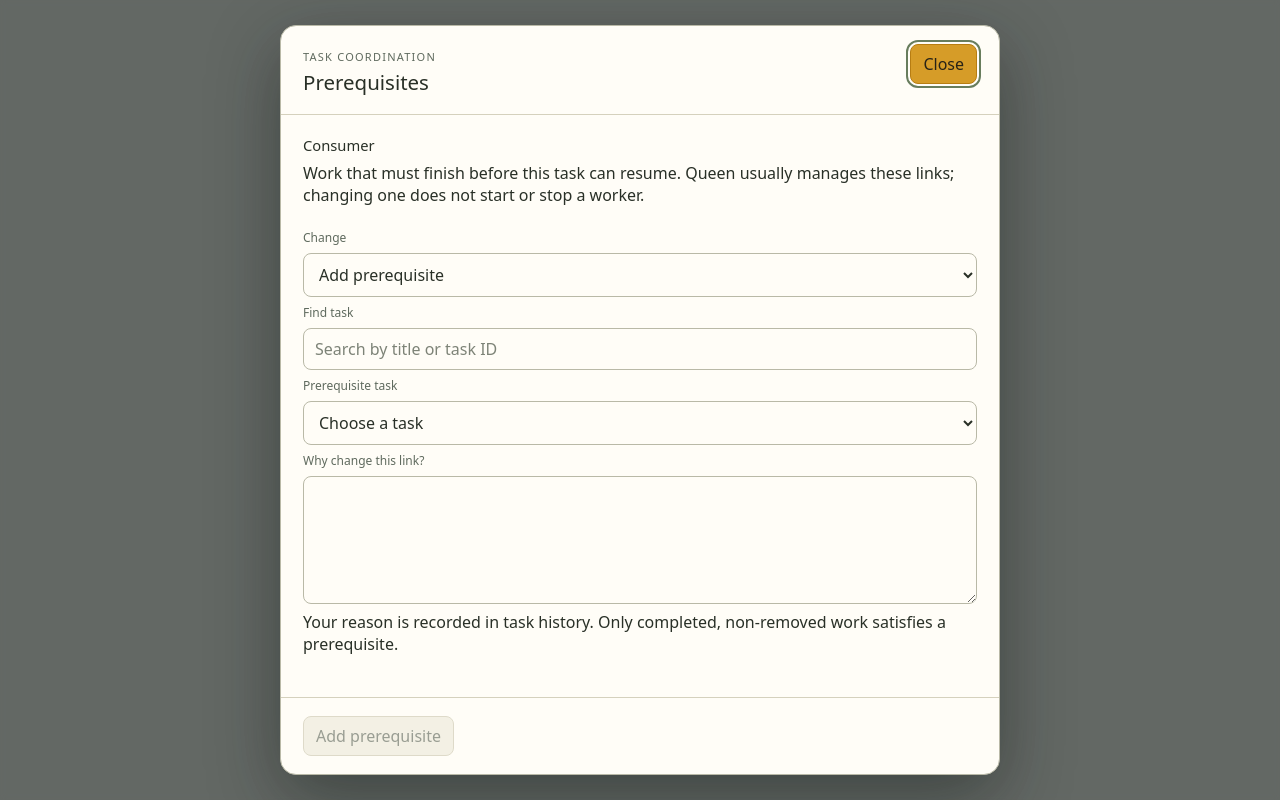
Scenario: a stalled save releases the editor at its deadline without replay or late success
This screenshot has width=1280, height=800.
Select "Shared contract · ready" in the dropdown labelled "Prerequisite task": (640, 423) 303,401 -> 977,445
In the text box labelled "Why change this link?": (640, 540) 303,476 -> 977,604, type "Need the agreed contract"
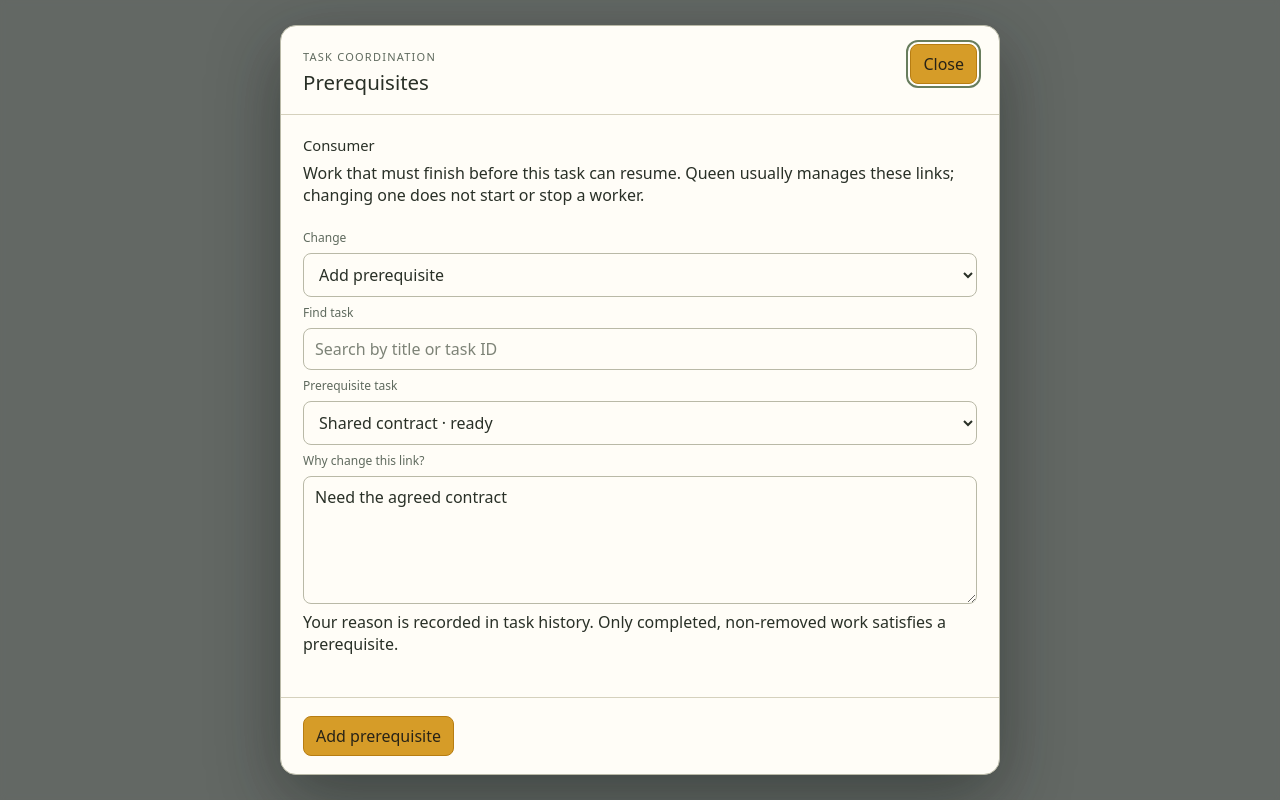
Click the button "Add prerequisite": (378, 736) 303,716 -> 454,756
Wait 8000 ms
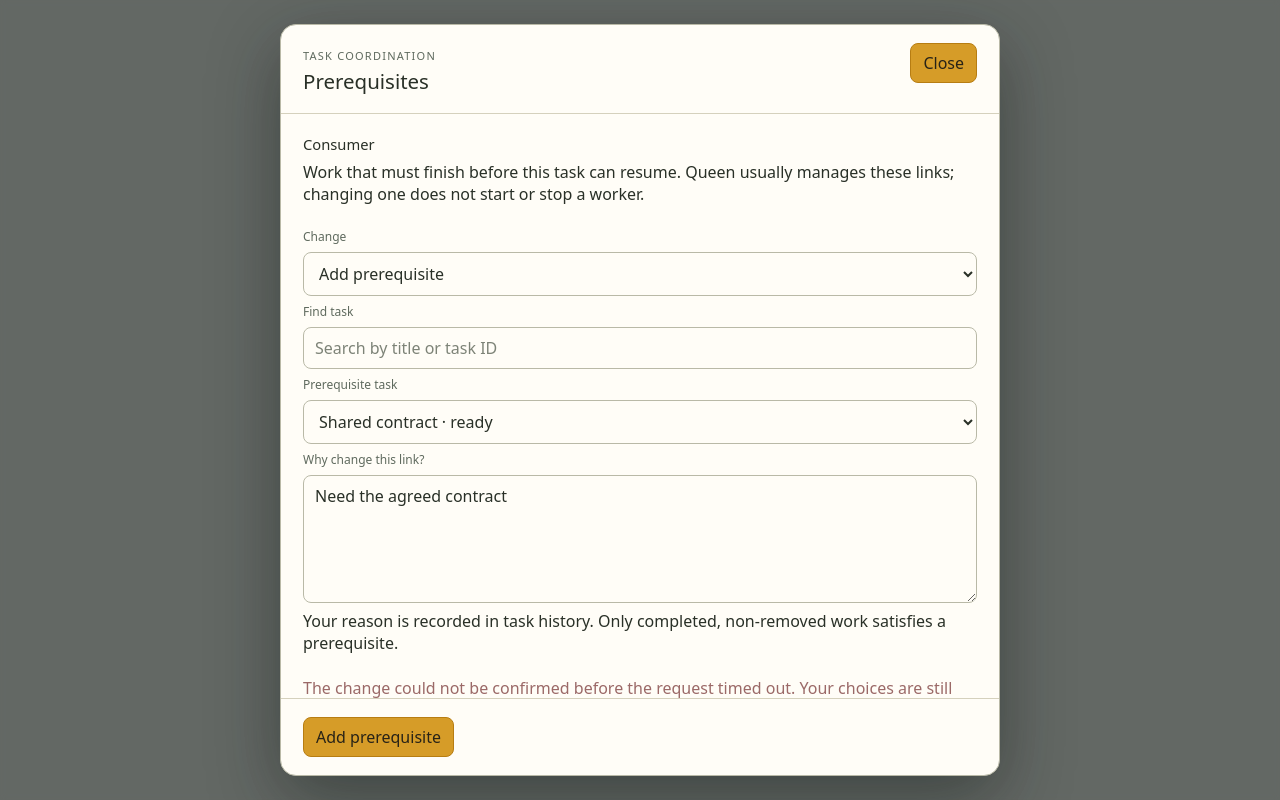
Click the button "Close": (944, 63) 910,43 -> 977,83
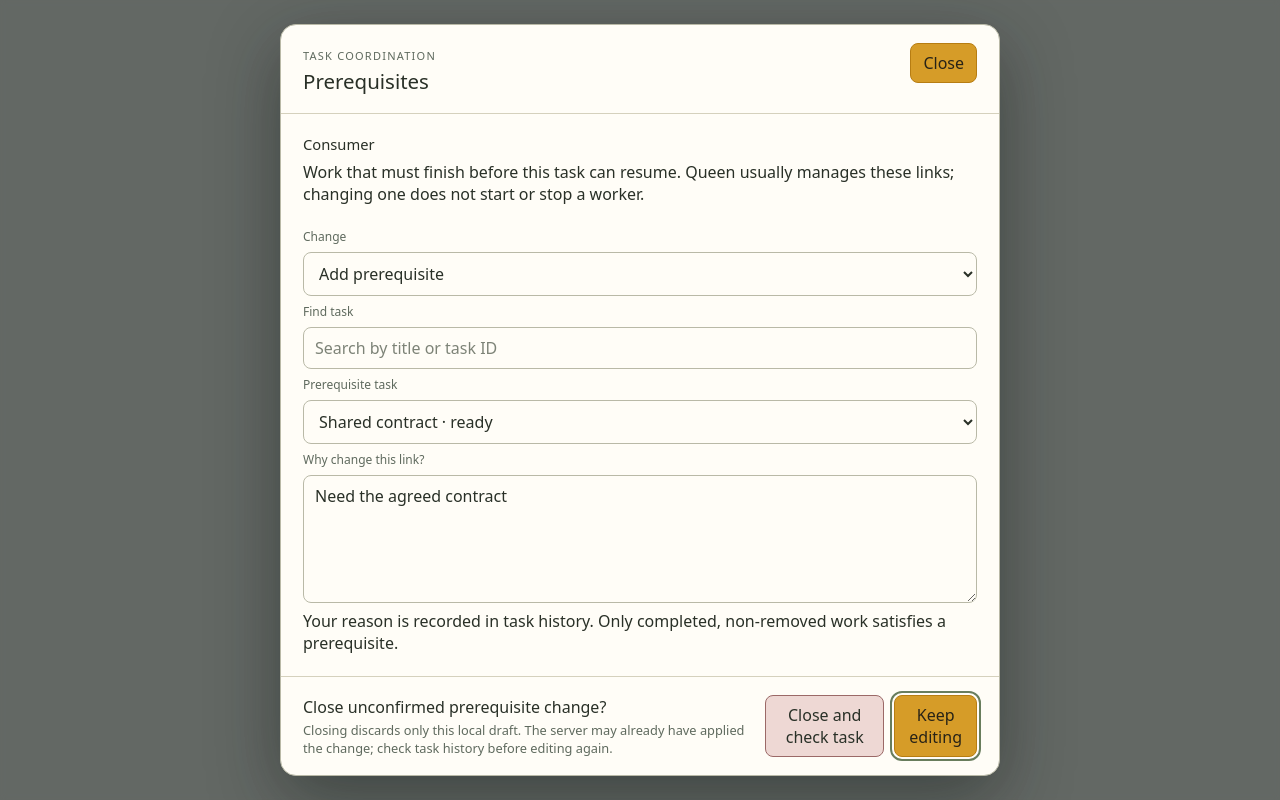
Now the dialog "Close unconfirmed prerequisite change?" shows "server may already have applied", box 303,720 -> 744,756
Click the button "Keep editing": (936, 726) 894,695 -> 977,757
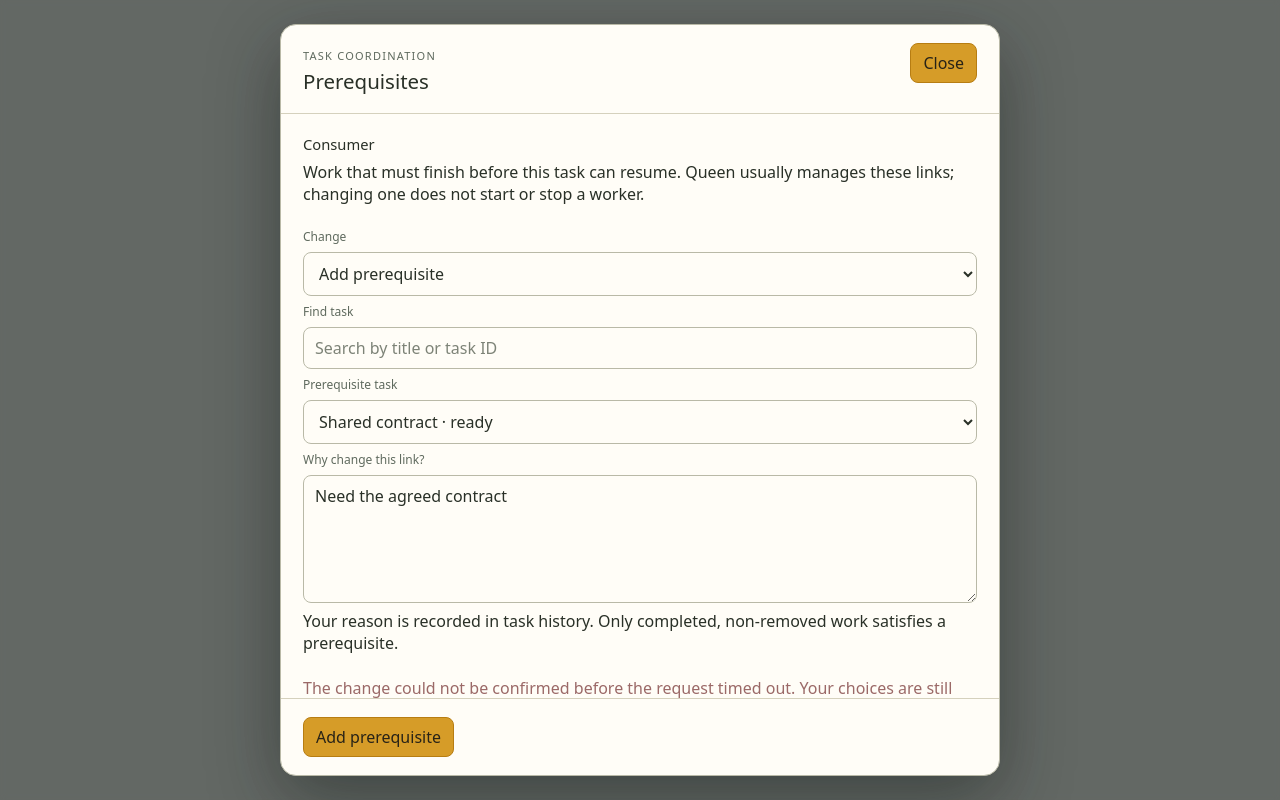
Select "Choose a task" in the dropdown labelled "Prerequisite task": (640, 422) 303,400 -> 977,444
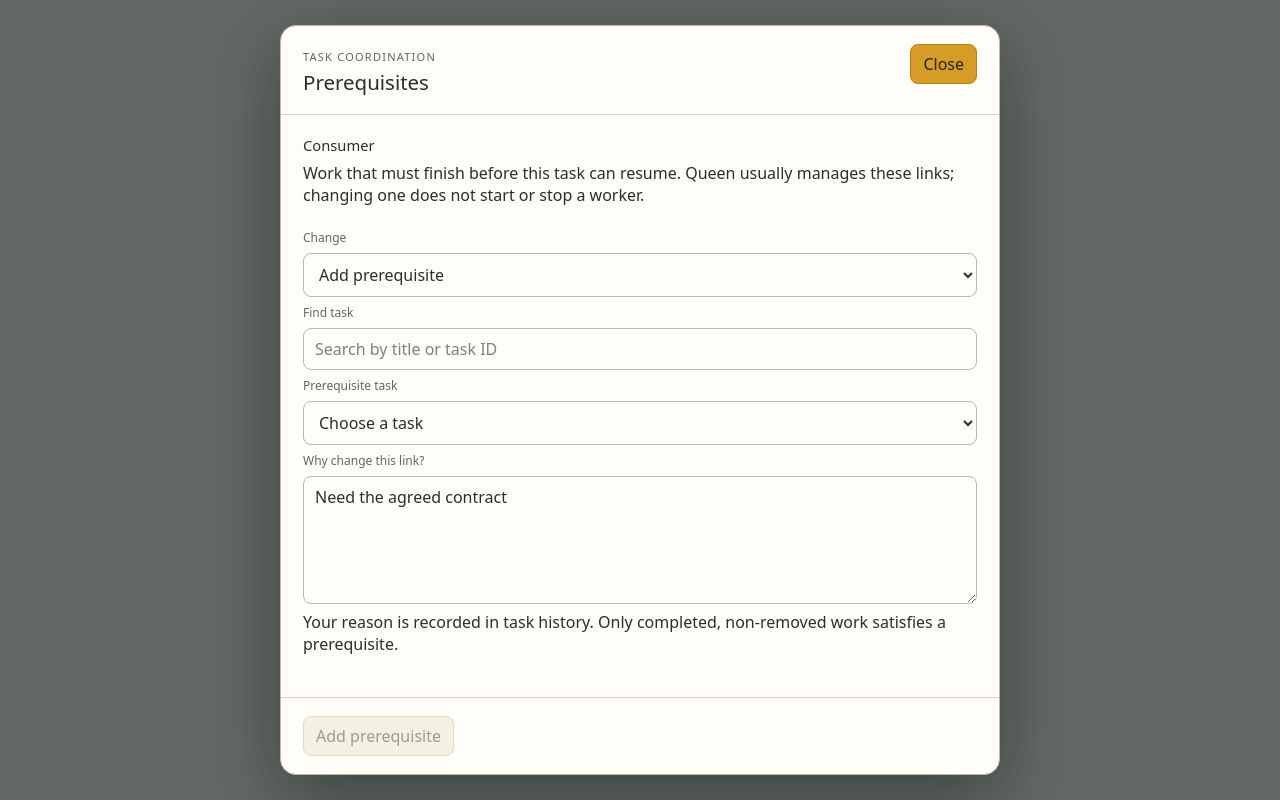
Clear the text box labelled "Why change this link?": (640, 540) 303,476 -> 977,604
Click the button "Close": (944, 64) 910,44 -> 977,84
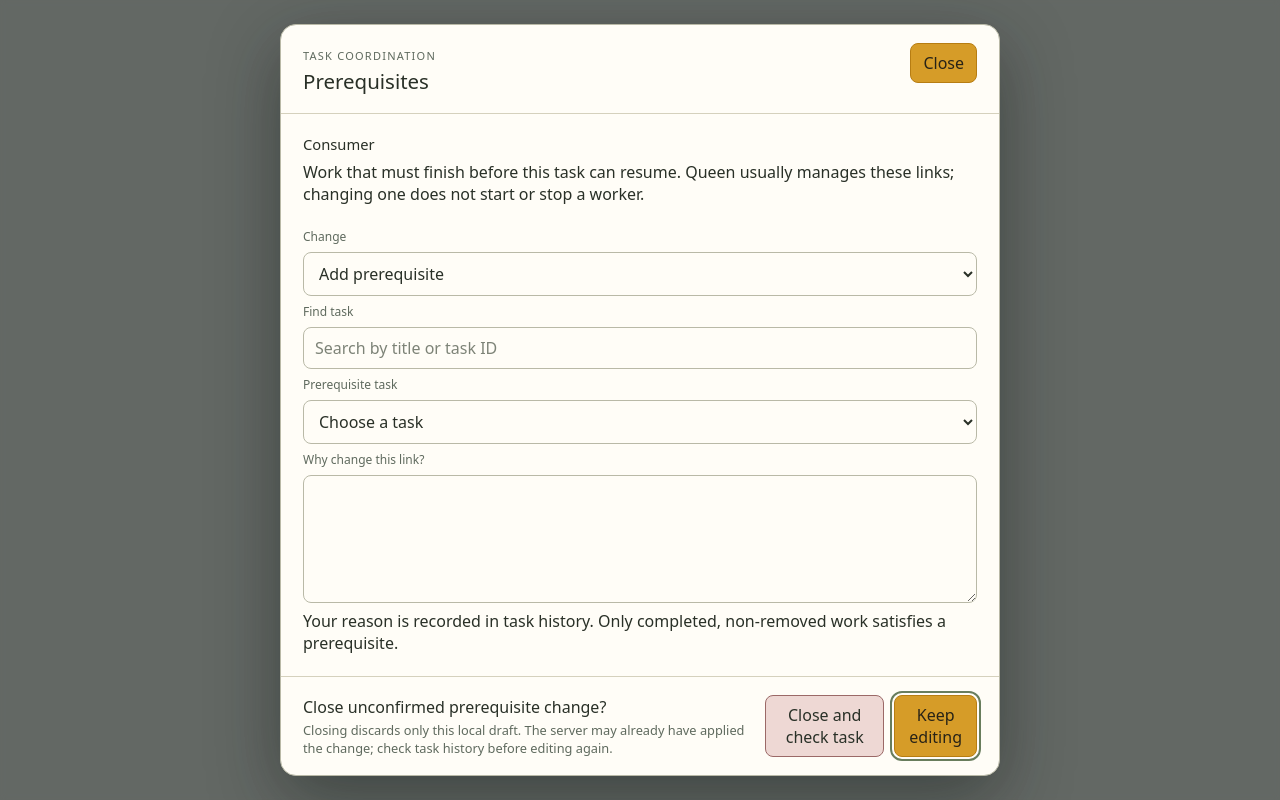
Now the dialog "Close unconfirmed prerequisite change?" is shown, box 303,695 -> 977,757
